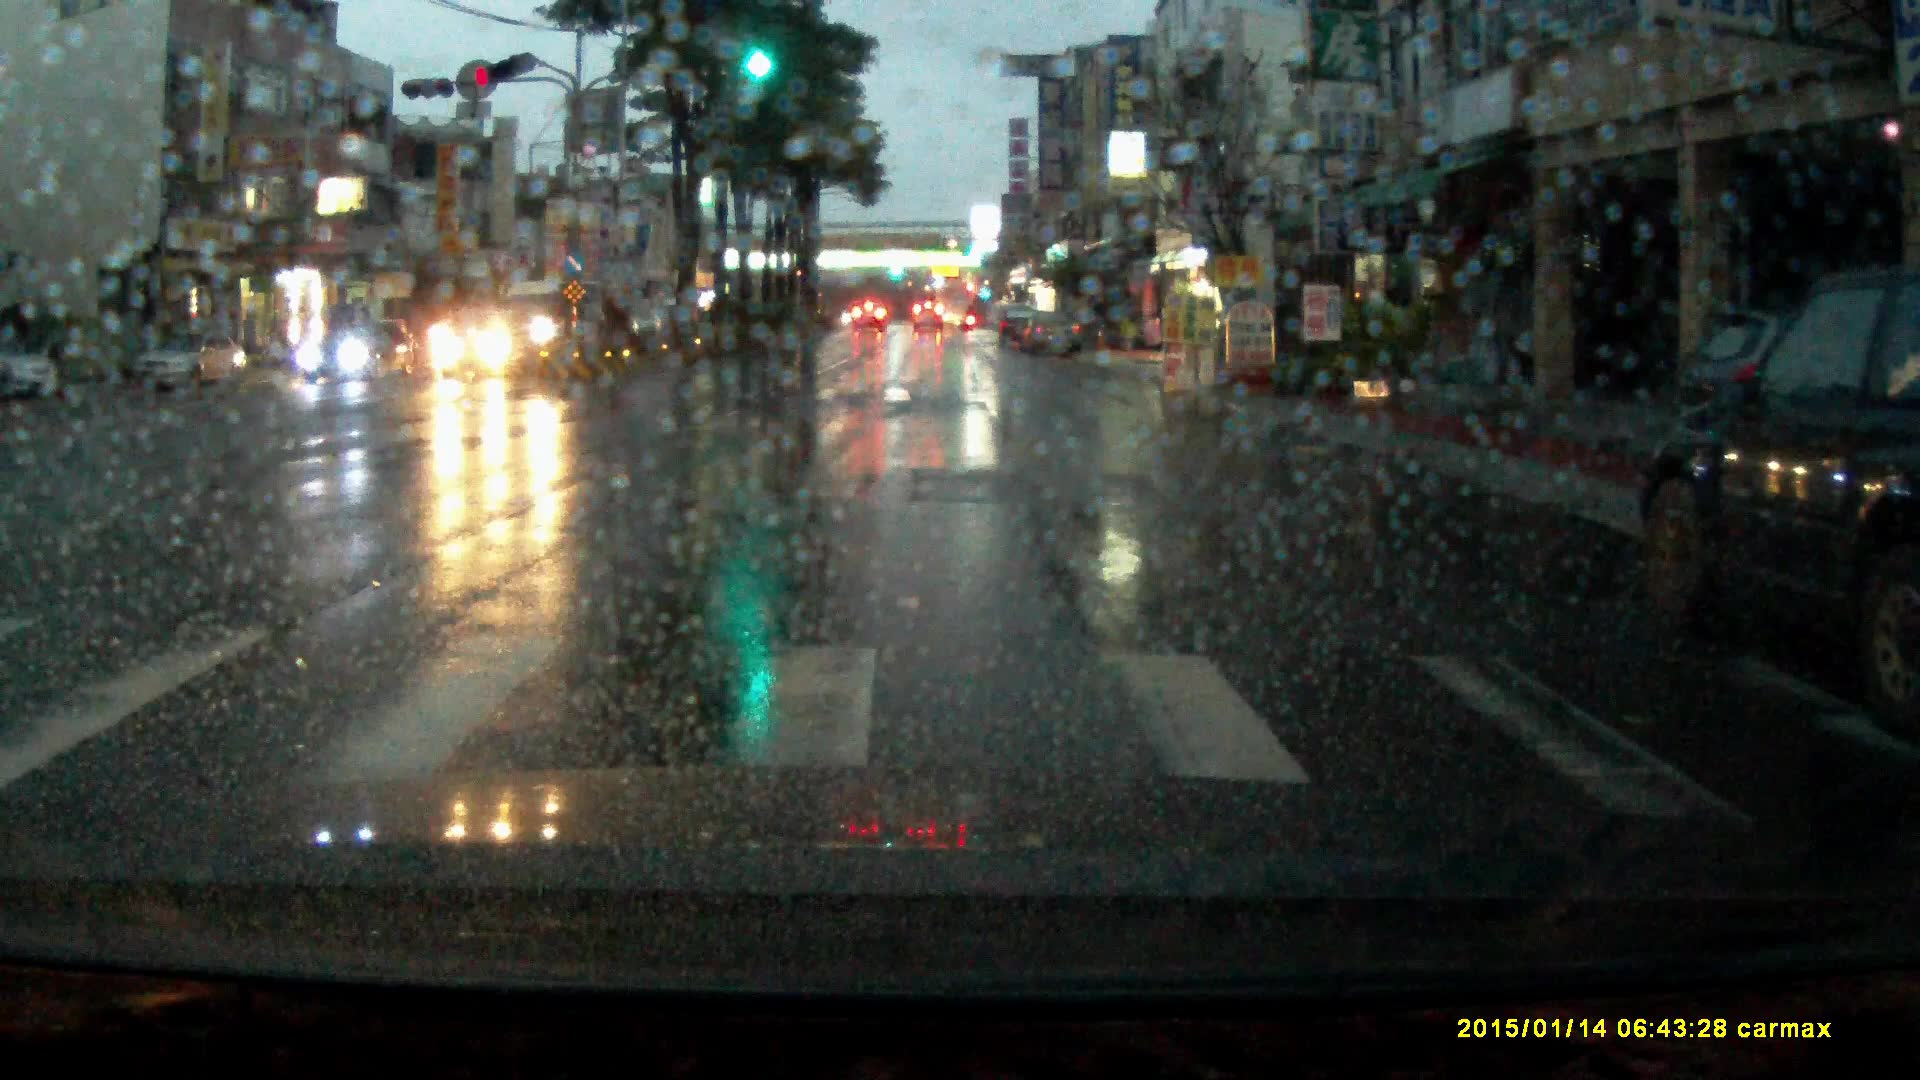vehicle: (1638, 268, 1920, 723), (1671, 307, 1797, 454), (487, 272, 604, 353), (128, 326, 247, 396), (433, 309, 541, 380), (291, 319, 419, 378), (1021, 310, 1087, 359), (1, 348, 58, 394), (997, 305, 1039, 351), (939, 277, 976, 330), (851, 299, 887, 332), (913, 298, 945, 334)
